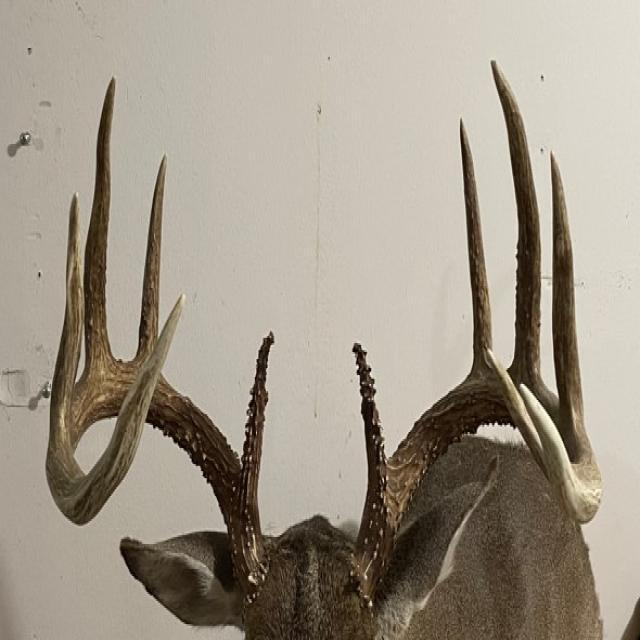L-G1: (351, 342, 387, 476)
L-G2: (459, 116, 494, 371)
L-G3: (490, 58, 541, 375)
L-G4: (550, 151, 584, 425)
R-G1: (240, 330, 275, 480)
R-G3: (84, 74, 117, 371)
R-G4: (49, 188, 84, 466)
